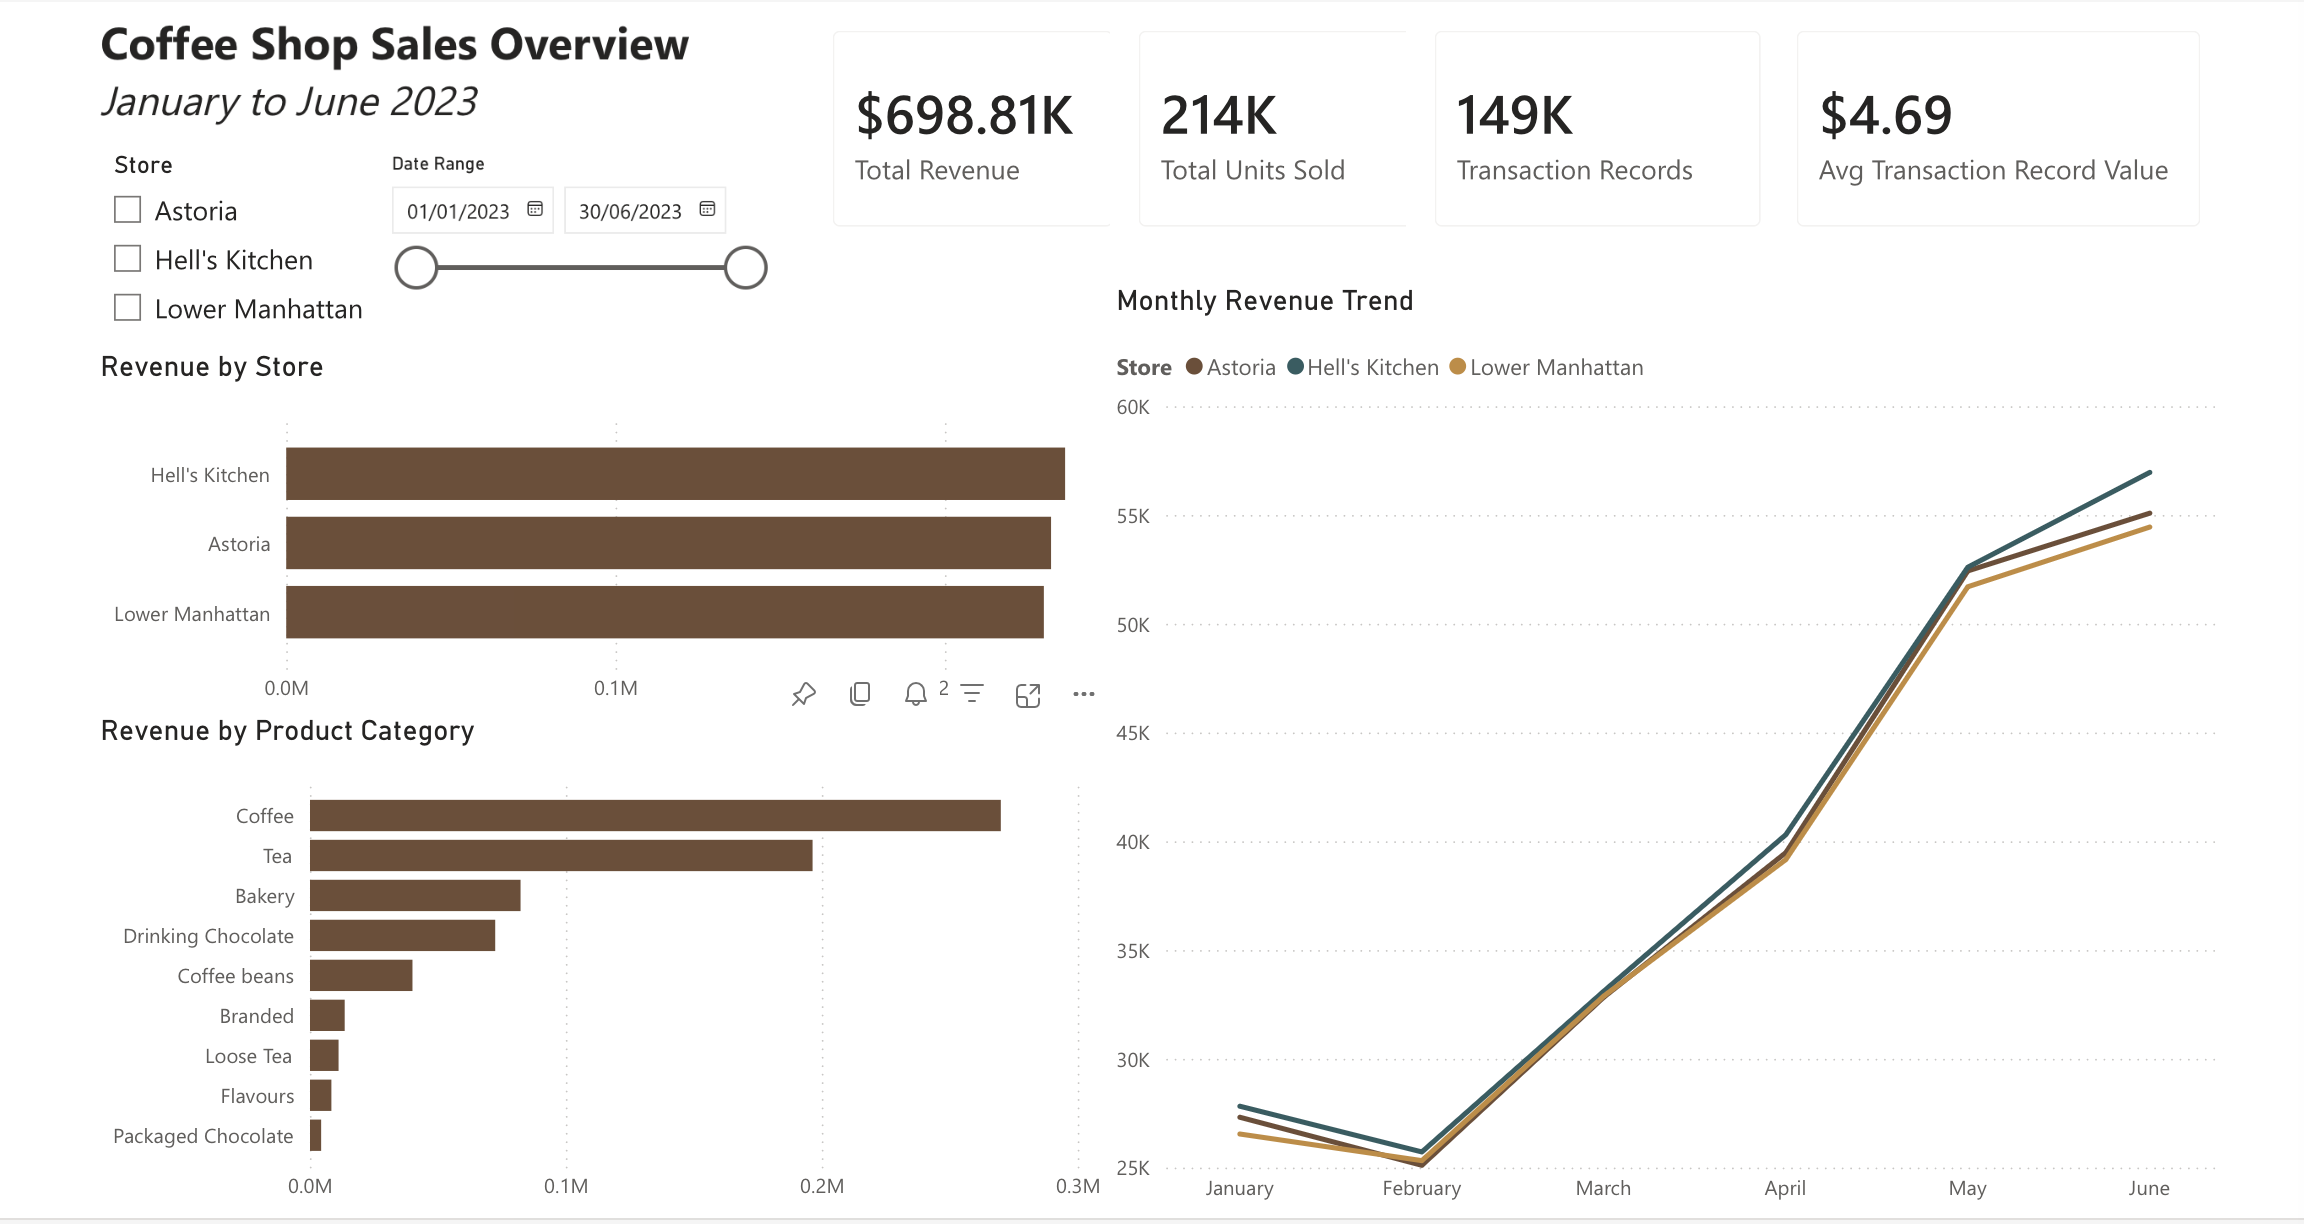

The page's visual inventory and layout, read from the dashboard file:
{"tool":"powerbi","page":{"name":"Coffee Shop Sales Overview","canvas":[1280,720],"ordinal":0},"visuals":[{"type":"cardVisual","fields":{"Data":["coffee-shop-sales-revenue.Total Revenue"]},"box":[434.4,0,200,150],"z":0},{"type":"cardVisual","fields":{"Data":["coffee-shop-sales-revenue.Total Units Sold"]},"box":[616,0,200,150],"z":1000},{"type":"cardVisual","fields":{"Data":["coffee-shop-sales-revenue.Transaction Records"]},"box":[791.1,0,227.4,150.7],"z":2000},{"type":"cardVisual","fields":{"Data":["coffee-shop-sales-revenue.AVG Transaction Value"]},"box":[1005.6,0,273.8,150.7],"z":3000},{"type":"clusteredBarChart","title":"Revenue by Store","fields":{"Category":["coffee-shop-sales-revenue.store_location"],"Y":["coffee-shop-sales-revenue.Total Revenue"]},"box":[13,208.6,621.5,215.9],"z":4000},{"type":"lineChart","title":"Monthly Revenue Trend","fields":{"Category":["coffee-shop-sales-revenue.transaction_date.Variation.Date Hierarchy.Month"],"Series":["coffee-shop-sales-revenue.store_location"],"Y":["coffee-shop-sales-revenue.Total Revenue"]},"box":[614.7,169.8,664.9,550.5],"z":5000},{"type":"slicer","fields":{"Values":["coffee-shop-sales-revenue.store_location"]},"box":[13,85.5,207.2,123.1],"z":6000},{"type":"slicer","fields":{"Values":["coffee-shop-sales-revenue.transaction_date"]},"box":[178.2,85.5,243.4,123.1],"z":7000},{"type":"clusteredBarChart","title":"Revenue by Product Category","fields":{"Category":["coffee-shop-sales-revenue.product_category"],"Y":["coffee-shop-sales-revenue.Total Revenue"]},"box":[13,424.5,602.7,295.5],"z":8000},{"type":"textbox","box":[13,0,386.8,85.5],"z":9000}]}

Visuals, with their boxes on the page's 1280x720 design canvas (x1, y1, x2, y2). These are canvas units, not pixel positions in the 2304x1224 screenshot, which may show the page scaled, cropped or inside an application window:
cardVisual - coffee-shop-sales-revenue.Total Revenue: region(434, 0, 634, 150)
cardVisual - coffee-shop-sales-revenue.Total Units Sold: region(616, 0, 816, 150)
cardVisual - coffee-shop-sales-revenue.Transaction Records: region(791, 0, 1018, 151)
cardVisual - coffee-shop-sales-revenue.AVG Transaction Value: region(1006, 0, 1279, 151)
"Revenue by Store" clusteredBarChart: region(13, 209, 634, 424)
"Monthly Revenue Trend" lineChart: region(615, 170, 1280, 720)
slicer - coffee-shop-sales-revenue.store_location: region(13, 86, 220, 209)
slicer - coffee-shop-sales-revenue.transaction_date: region(178, 86, 422, 209)
"Revenue by Product Category" clusteredBarChart: region(13, 424, 616, 720)
textbox: region(13, 0, 400, 86)
